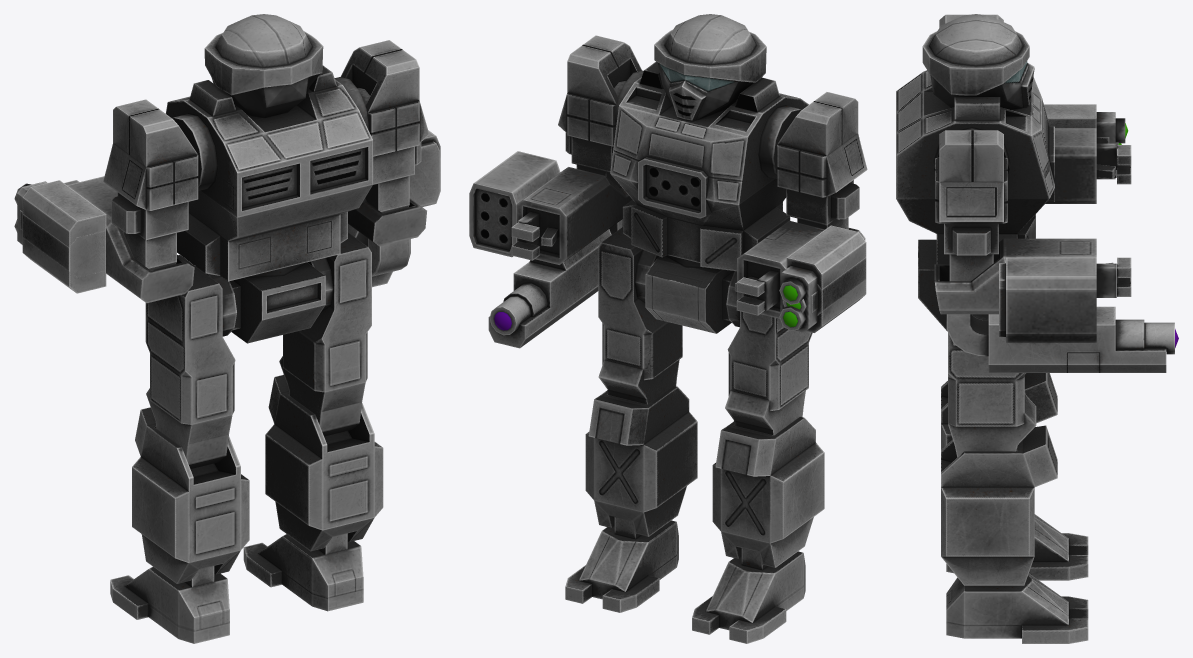
Rendered from Commando.FBX.
The picture shows the model from 3 angles, left to right: view 1: azimuth 30°, elevation 25°; view 2: azimuth 150°, elevation 25°; view 3: azimuth 270°, elevation 25°; orthographic projection. The views are drawn at different scales.
Parts seen in each view (by area): view 1: torso, lupperleg, rlowerleg, llowerleg, rupperleg, lupperarm, rupperarm, 7s L MBLs, rfoot, lfoot, pelvis, llowerarm (+4 smaller); view 2: torso, rlowerleg, llowerleg, rupperleg, lupperarm, lupperleg, rupperarm, lfoot, rfoot, 1D R LBL, llowerarm001, 7s L MBLs (+8 smaller); view 3: torso, rlowerleg, 1D R LBL, rupperarm, 7s R SRM, rfoot, rupperleg, llowerarm001, llowerarm, lfoot, 7s L MBLs, llowerleg (+3 smaller).
Part boxes in pixels (x1,y1,x2,y2): torso: (165, 14, 372, 281); lupperleg: (145, 255, 236, 468); rlowerleg: (265, 374, 383, 551); llowerleg: (132, 407, 249, 583); rupperleg: (279, 232, 371, 436); lupperarm: (103, 99, 198, 270); rupperarm: (340, 40, 429, 213); 7s L MBLs: (14, 180, 106, 293); rfoot: (243, 533, 363, 611); lfoot: (110, 566, 229, 643); pelvis: (230, 262, 325, 343); llowerarm: (67, 176, 194, 303); torso: (610, 14, 808, 271); rlowerleg: (585, 385, 697, 536); llowerleg: (712, 416, 824, 567); rupperleg: (598, 227, 682, 404); lupperarm: (777, 92, 867, 229); lupperleg: (725, 271, 812, 435); rupperarm: (558, 35, 641, 187); lfoot: (692, 548, 805, 643); rfoot: (565, 517, 678, 612); 1D R LBL: (488, 219, 622, 348); llowerarm001: (516, 167, 632, 264); 7s L MBLs: (779, 225, 866, 332); torso: (896, 14, 1054, 264); rlowerleg: (941, 425, 1057, 585); 1D R LBL: (946, 306, 1178, 372); rupperarm: (935, 130, 1007, 281); 7s R SRM: (999, 257, 1096, 342); rfoot: (946, 573, 1088, 643); rupperleg: (948, 314, 1036, 457); llowerarm001: (934, 238, 1096, 314); llowerarm: (1045, 128, 1096, 203); lfoot: (946, 514, 1088, 580); 7s L MBLs: (1044, 104, 1128, 179); llowerleg: (941, 373, 1057, 449).
Size of the model in its own units: 26.67 by 40.6 by 18.1.
Materials: 1 (1 with a texture image).
